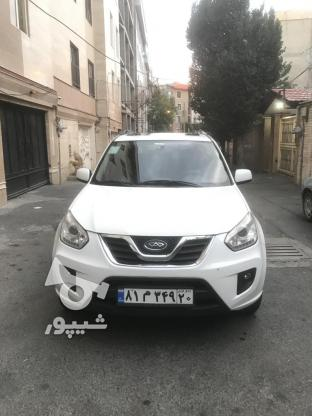car: (117, 288, 195, 306)
